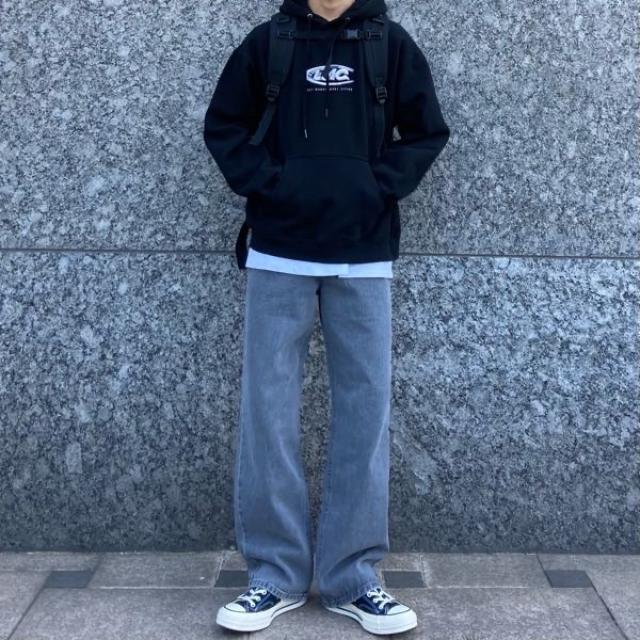denimpants: (240, 270, 390, 607)
hoodies: (205, 0, 450, 264)
